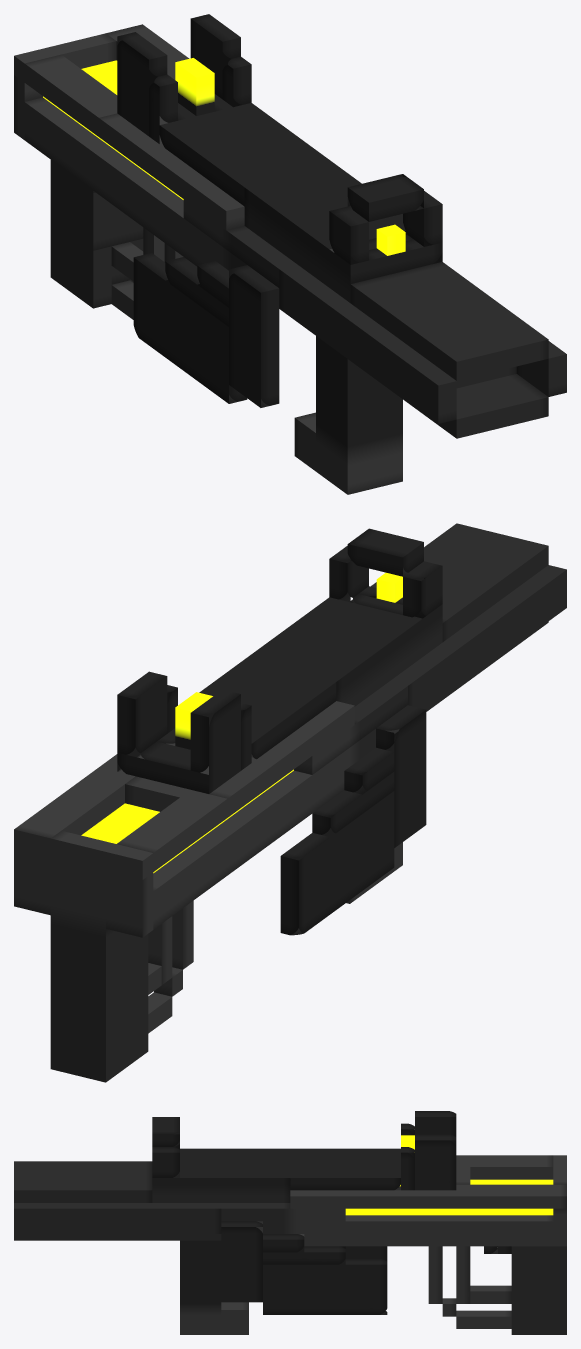
Rendered from GrenadeLauncher.dae.
The picture shows the model from 3 angles, top to bottom: view 1: azimuth 30°, elevation 25°; view 2: azimuth 150°, elevation 25°; view 3: azimuth 270°, elevation 25°; orthographic projection. The views are drawn at different scales.
Visible parts, largest first — view 1: GrenadeLauncher; view 2: GrenadeLauncher; view 3: GrenadeLauncher.
Part boxes in pixels (box(x1,y1,x2,y2)): GrenadeLauncher: box(14, 14, 566, 494); GrenadeLauncher: box(14, 523, 566, 1082); GrenadeLauncher: box(14, 1111, 566, 1334).
Bounding box in the file's own units: 9 × 16 × 40.
1 material, 1 textured.
